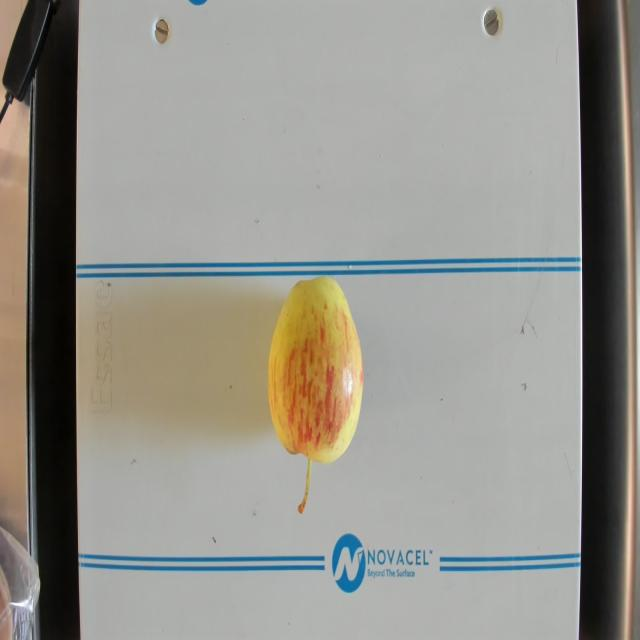apple: (268, 274, 364, 515)
